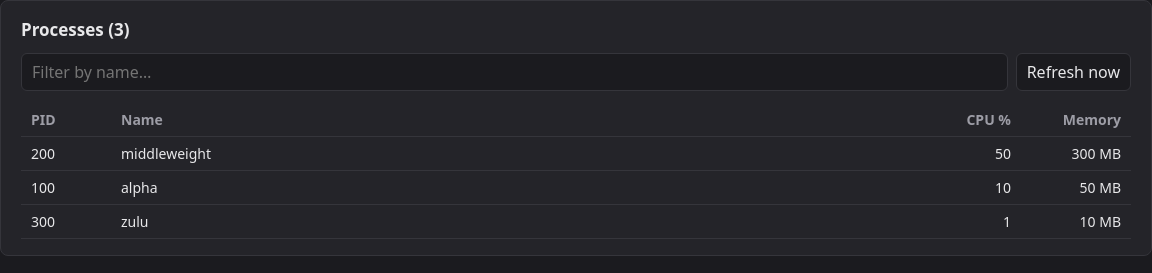
Test case: ProcessTable › filters rows as the user types
The width and height of the screenshot is (1152, 273).
Expected: the heading "Processes (3)" is shown, [21,18,130,41]
Step 1. Type "zu" into the field with placeholder "Filter by name…" → (514, 72), box [21,52,1008,90]
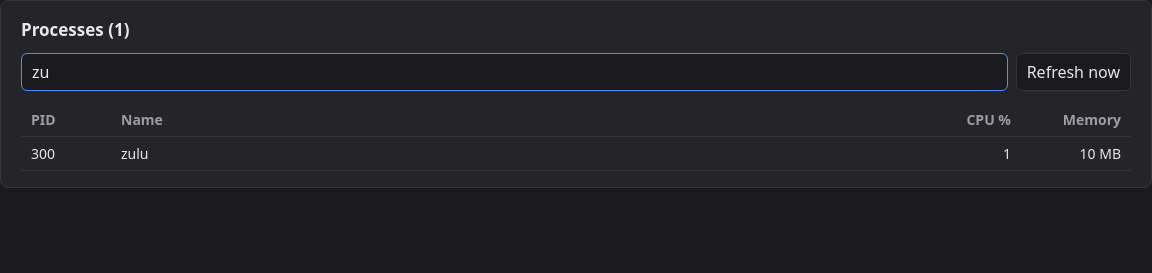
Result: the heading "Processes (1)" is shown at [21,18,130,41]
